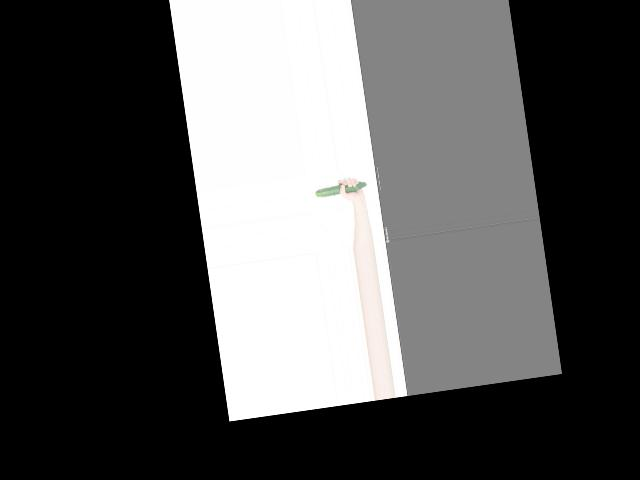cucumber: (314, 180, 368, 197)
